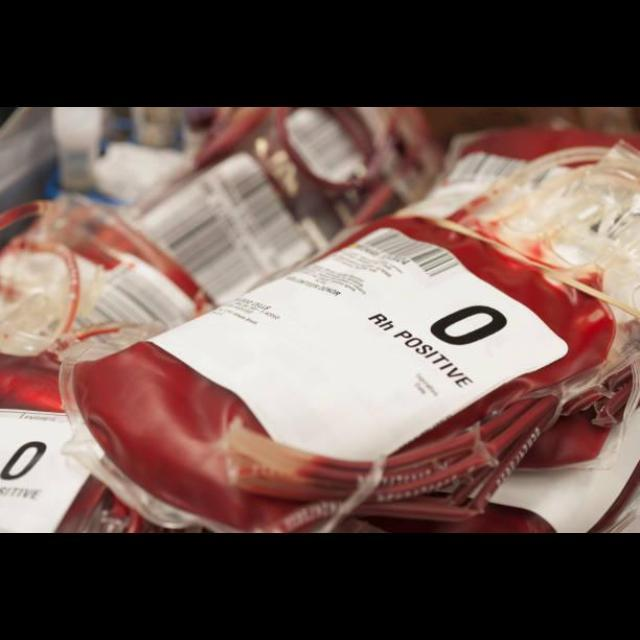blood: (61, 226, 569, 533), (333, 218, 617, 443), (521, 366, 635, 469), (364, 504, 557, 534), (0, 353, 64, 413)
